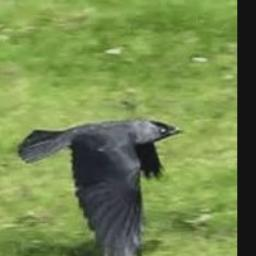Crow: (17, 117, 183, 256)
